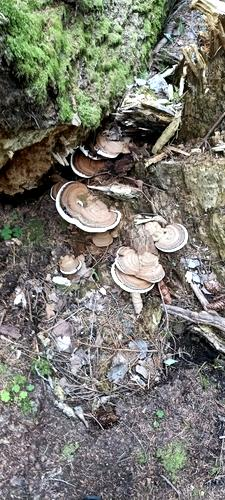Ganoderma - Fruit Body: (54, 180, 123, 238), (113, 251, 165, 298), (127, 216, 189, 252), (70, 144, 114, 176)
